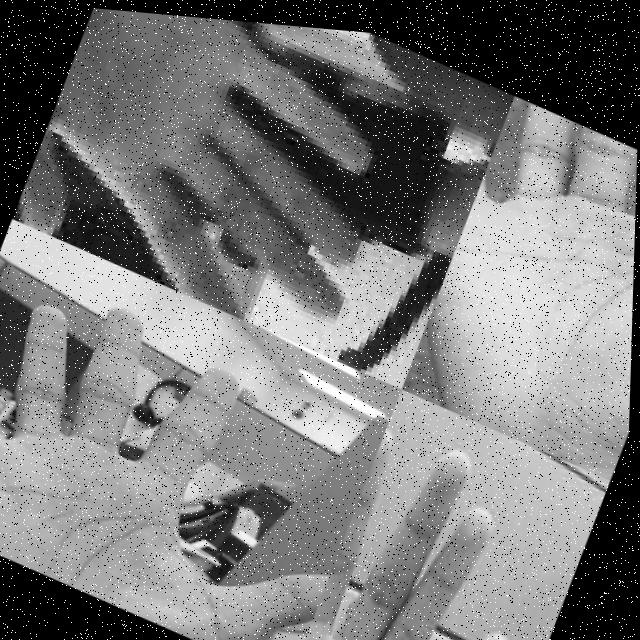hand: (9, 1, 439, 356), (0, 252, 392, 640), (401, 78, 639, 469), (291, 402, 575, 640)
